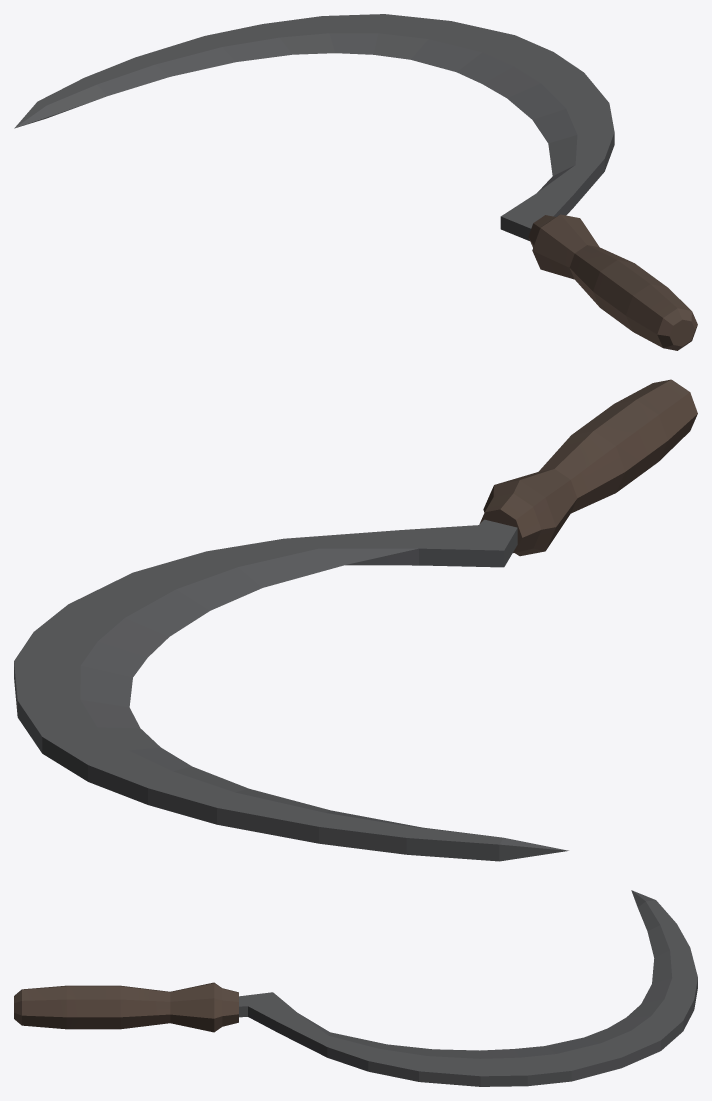
The model's file is Sickle.001.fbx.
3 views of the same model, one above another, from view 1: azimuth 30°, elevation 25°; view 2: azimuth 150°, elevation 25°; view 3: azimuth 270°, elevation 25° (orthographic). The views are drawn at different scales.
Parts seen in each view (by area): view 1: Sickle.001; view 2: Sickle.001; view 3: Sickle.001.
Part boxes in pixels (box(x1,y1,x2,y2)): Sickle.001: box(14, 14, 697, 350); Sickle.001: box(14, 379, 697, 861); Sickle.001: box(14, 890, 697, 1086).
Size of the model in its own units: 0.7932 by 0.0932 by 1.2.
Materials: 1 (1 with a texture image).
